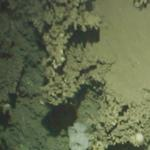dead: (10, 6, 143, 144)
